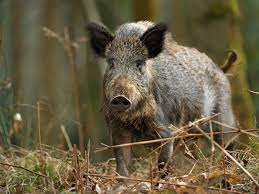boar: (87, 18, 238, 177)
